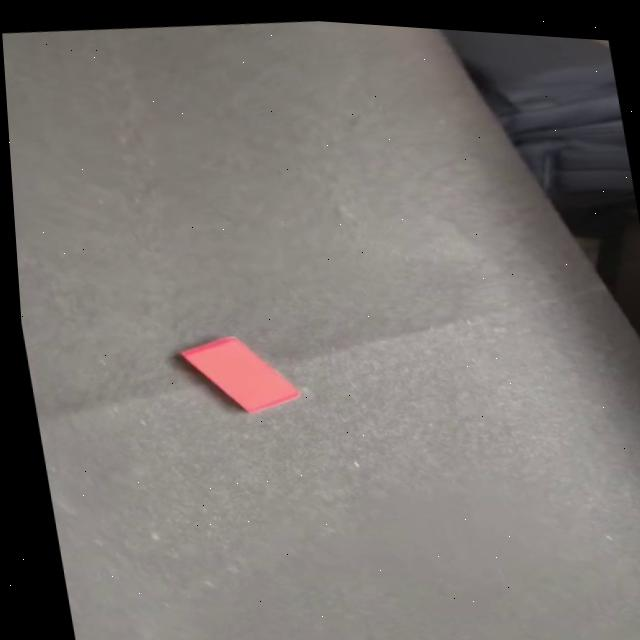red block: (173, 324, 303, 422)
